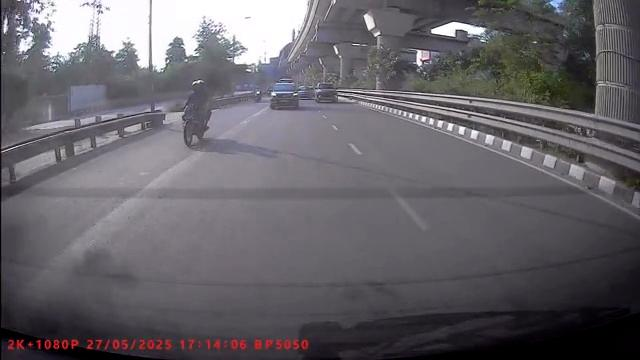passenger_with_helmet: (180, 78, 213, 148)
